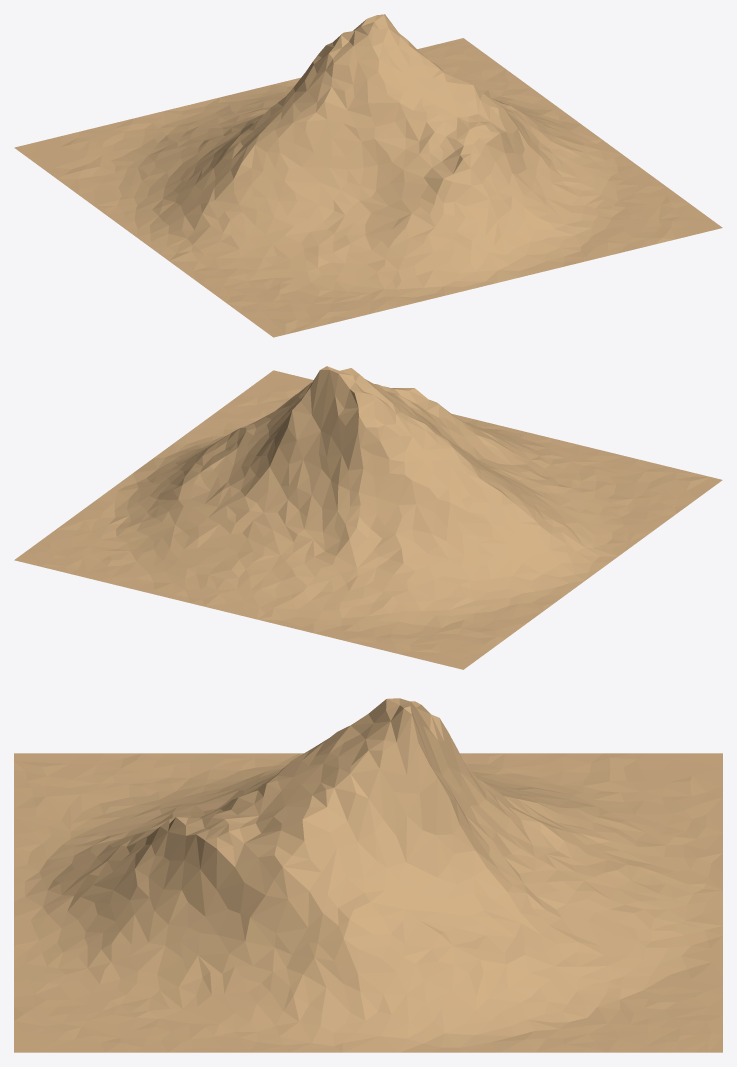
The model's file is MT_Terrain_L_f_06_LOD.fbx.
The picture shows the model from 3 angles, top to bottom: view 1: azimuth 30°, elevation 25°; view 2: azimuth 150°, elevation 25°; view 3: azimuth 270°, elevation 25°; orthographic projection. The views are drawn at different scales.
Parts seen in each view (by area): view 1: MT_Terrain_L_f_06_LOD0; view 2: MT_Terrain_L_f_06_LOD0; view 3: MT_Terrain_L_f_06_LOD0.
Boxes of the visible parts, x1=… form: MT_Terrain_L_f_06_LOD0: x1=14, y1=14, x2=722, y2=337; MT_Terrain_L_f_06_LOD0: x1=14, y1=366, x2=722, y2=669; MT_Terrain_L_f_06_LOD0: x1=14, y1=698, x2=722, y2=1052.
Size of what is drawn, in the model's own units: 10000 by 3341 by 10000.
